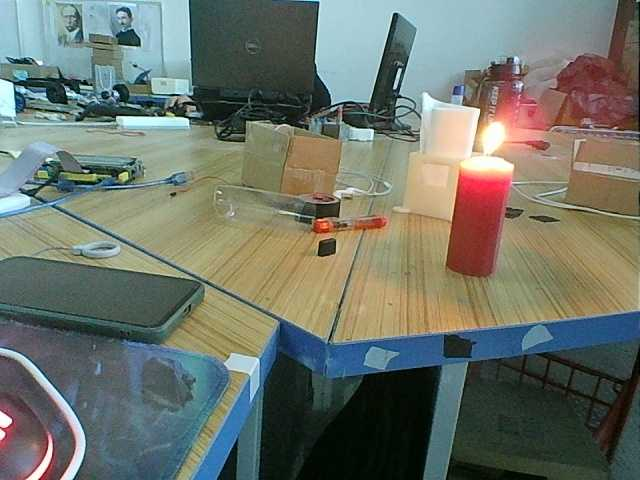candle: (436, 152, 514, 284)
fire: (448, 113, 527, 175)
